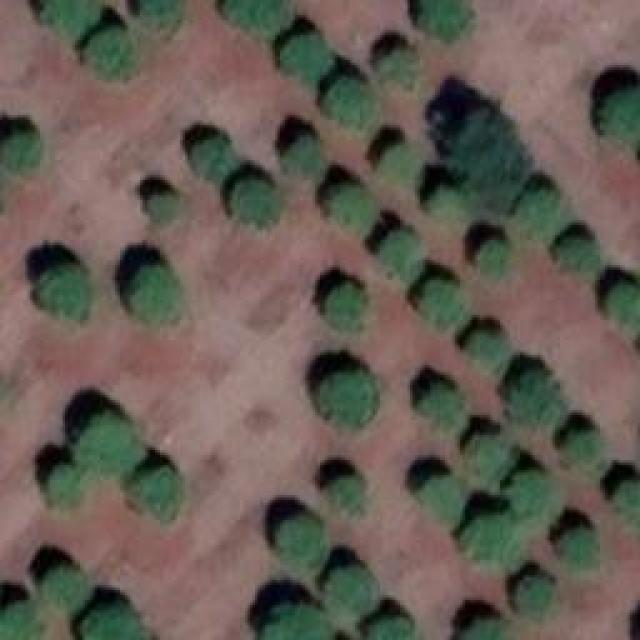Tree: (118, 458, 187, 524), (78, 410, 144, 472), (460, 510, 521, 574), (314, 363, 374, 427), (127, 265, 185, 326), (35, 260, 92, 320), (73, 595, 148, 640), (253, 595, 328, 640), (508, 367, 564, 425), (326, 560, 378, 621), (270, 515, 327, 569), (502, 468, 560, 521), (218, 0, 292, 41), (460, 425, 511, 480), (85, 28, 137, 81), (43, 560, 93, 613), (318, 175, 369, 225), (423, 280, 471, 333), (515, 190, 566, 239), (323, 283, 375, 331), (228, 183, 281, 230), (45, 468, 95, 517), (353, 602, 416, 640), (600, 90, 640, 149), (330, 75, 377, 125), (553, 523, 602, 570), (420, 473, 466, 522), (283, 35, 334, 79), (418, 0, 472, 41), (420, 385, 466, 431), (565, 420, 606, 471), (193, 135, 237, 182), (0, 123, 39, 176), (0, 592, 44, 638), (370, 135, 417, 178), (602, 285, 639, 339), (513, 575, 556, 621), (378, 230, 421, 275), (135, 0, 183, 40), (40, 0, 96, 34), (325, 477, 367, 522), (473, 238, 514, 282), (383, 43, 425, 85), (607, 474, 640, 527), (285, 133, 325, 176), (555, 230, 592, 273), (465, 330, 506, 368), (143, 185, 183, 223), (453, 612, 503, 640), (430, 188, 467, 225)
